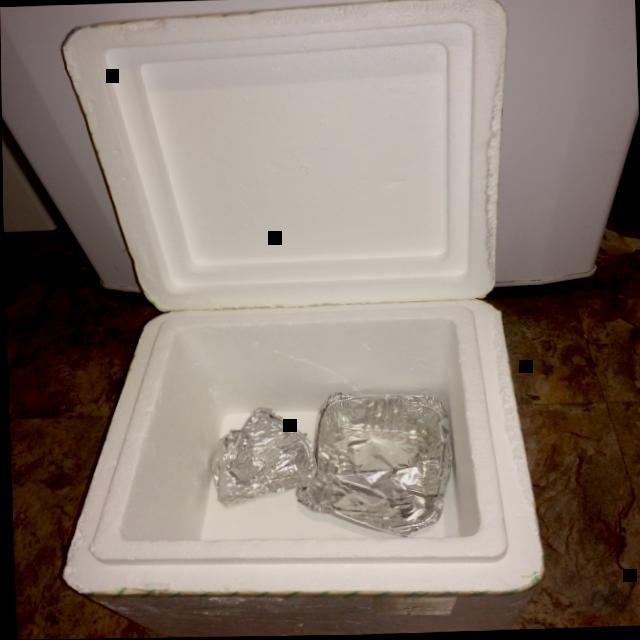Aluminium foil: (285, 392, 451, 537), (209, 406, 311, 508)
Styrofoam piece: (59, 0, 542, 637)
